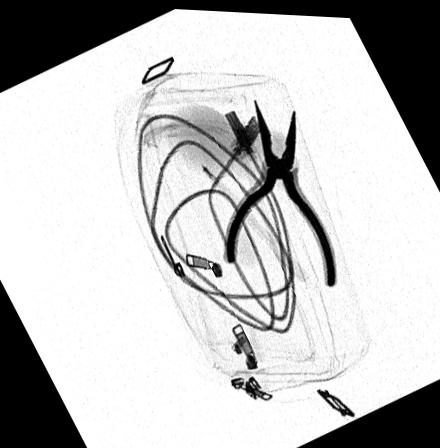Pliers: (222, 94, 339, 285)
